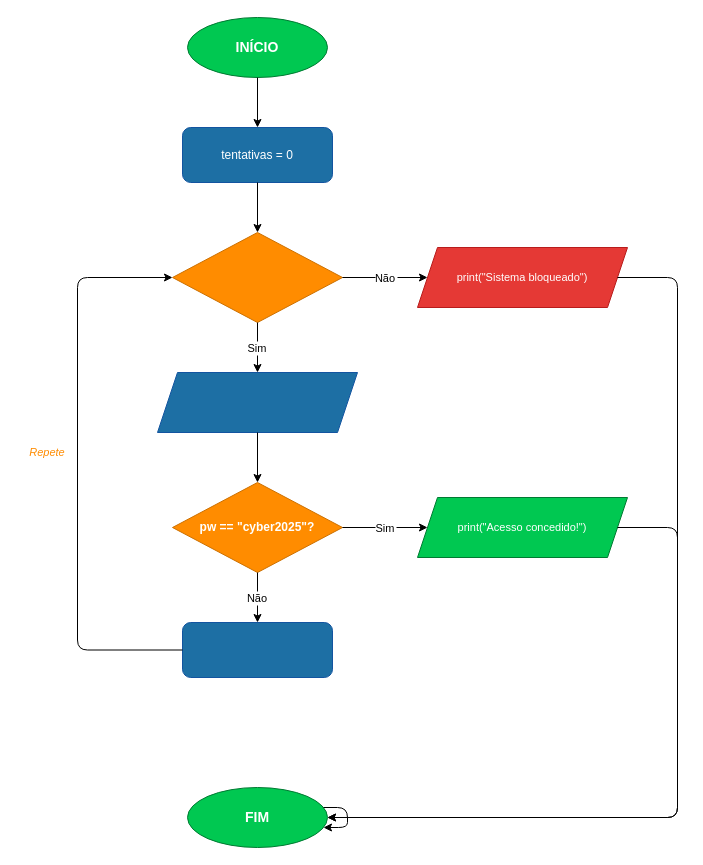
The diagram is 703 pixels wide and 865 high, and some of its shapes have lost their labels. The shapes that lost their labels are listed below. From the top down, each one's centre as x and y in pixels, then its label:
[257,277]: tentativas < 3?
[257,402]: pw = input("Password: ")
[257,650]: tentativas += 1
